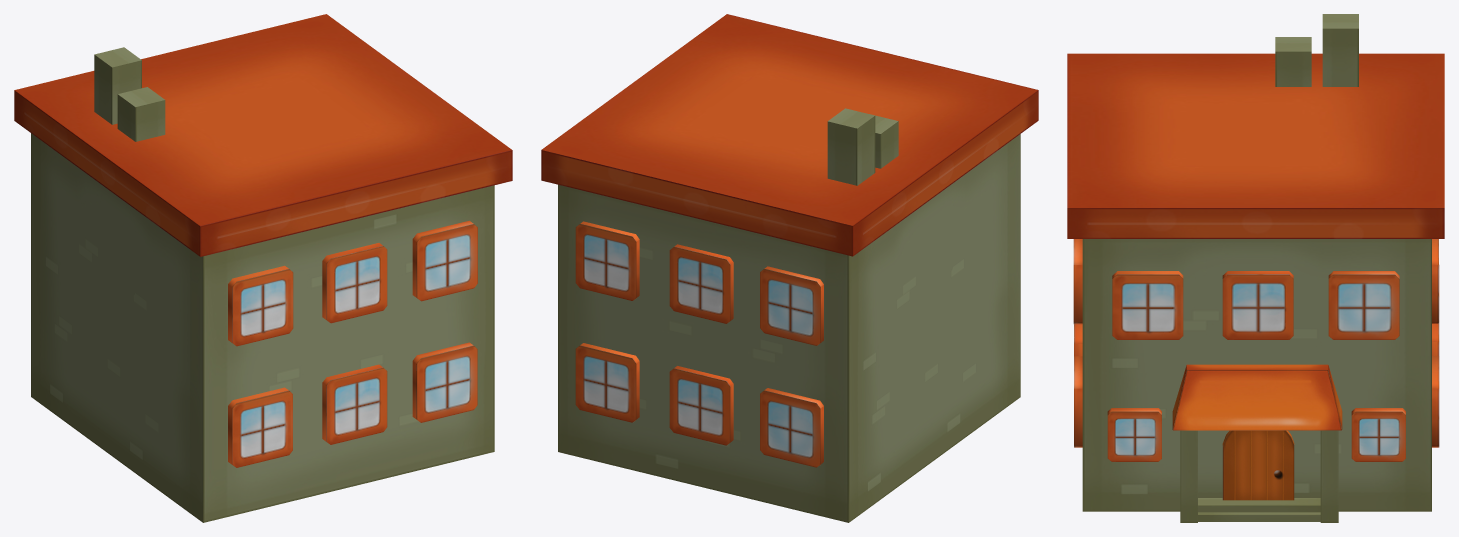
File: House_7.fbx
3 views of the same model, side by side, from view 1: azimuth 30°, elevation 25°; view 2: azimuth 150°, elevation 25°; view 3: azimuth 270°, elevation 25° (orthographic).
Visible parts, largest first — view 1: House_7; view 2: House_7; view 3: House_7.
Part boxes in pixels (left/top/right/bottom): House_7: left=14, top=14, right=512, bottom=522; House_7: left=541, top=14, right=1038, bottom=522; House_7: left=1067, top=14, right=1444, bottom=522.
Bounding box in the file's own units: 8.18 × 8.31 × 7.74.
